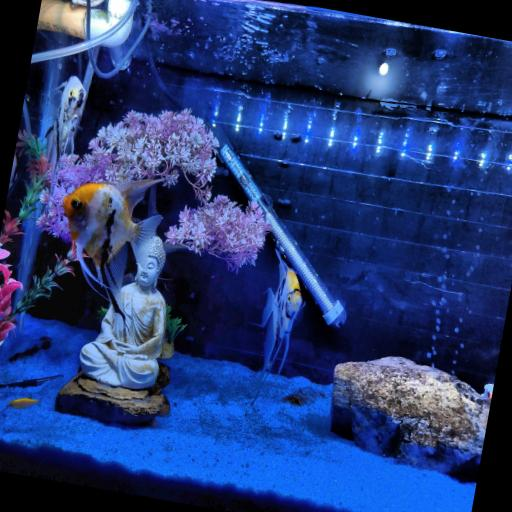Fish: (62, 180, 161, 291), (259, 251, 301, 379), (45, 76, 85, 190), (7, 398, 38, 409)
